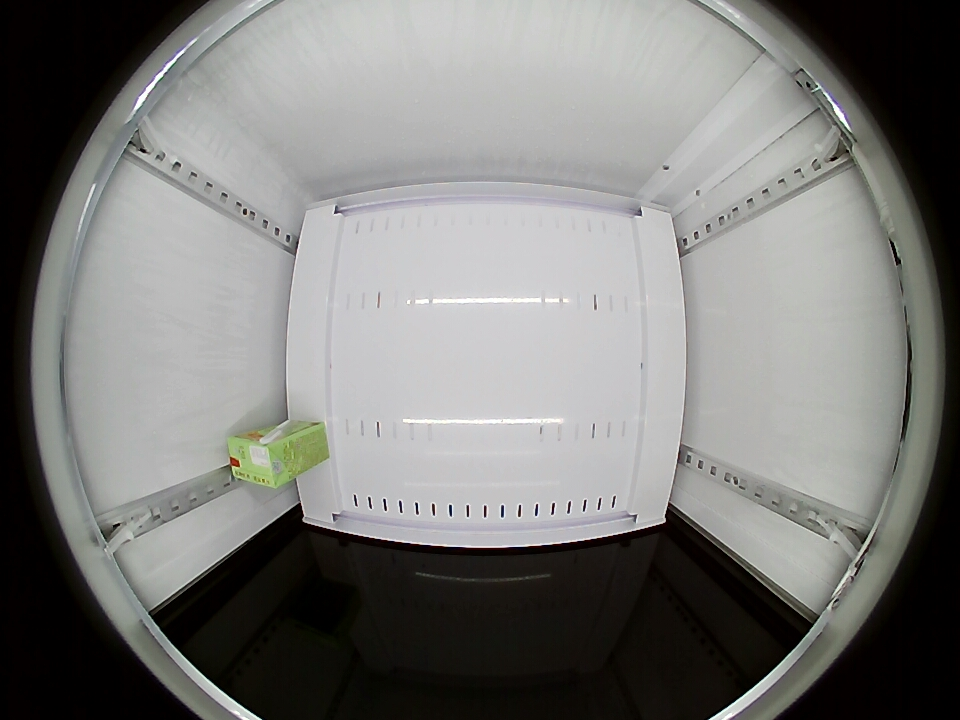wanglaoji: (227, 430, 291, 489)
